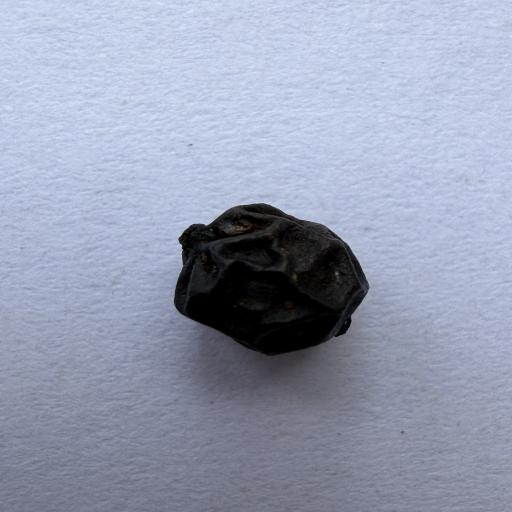Black_pepper: (154, 193, 371, 357)
